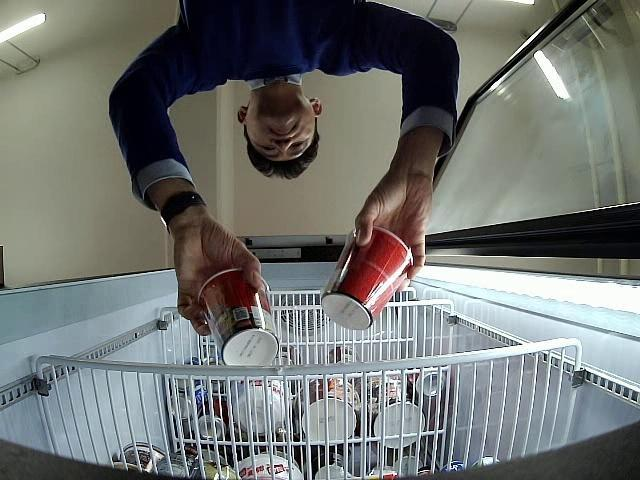02_shinRamen_S: (321, 224, 413, 330), (197, 269, 279, 366)
